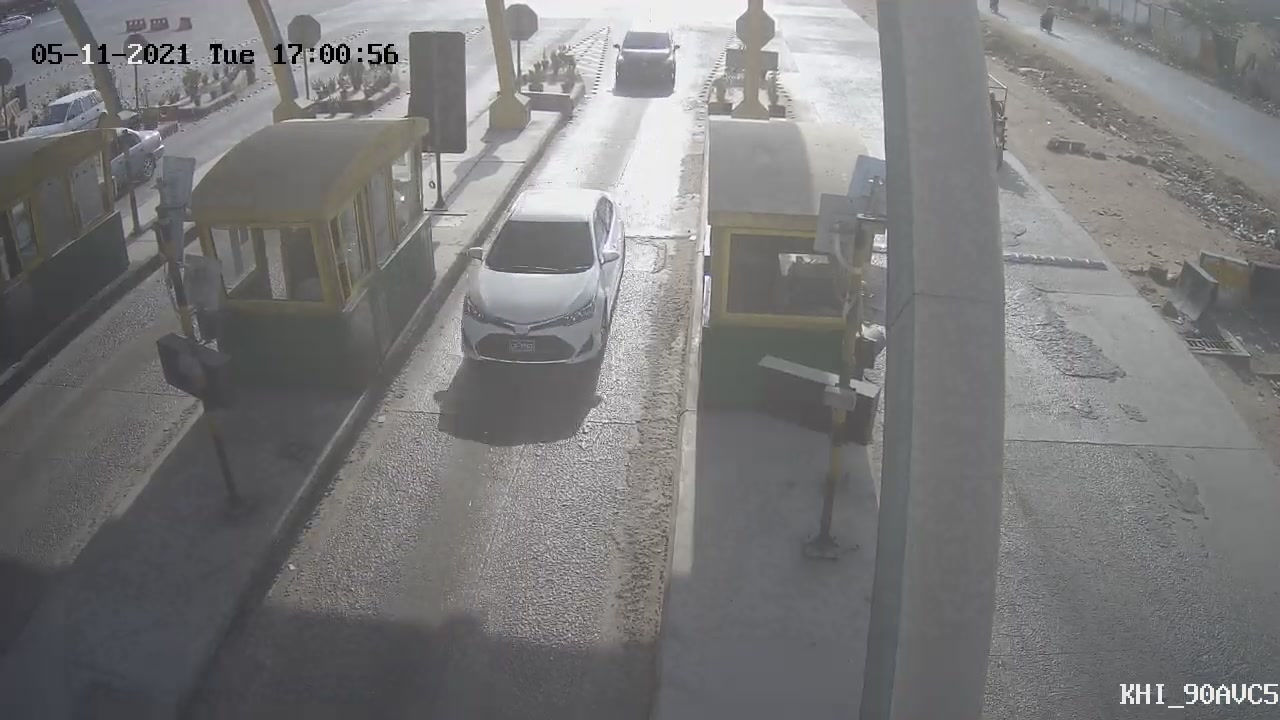F1: (437, 166, 646, 386)
